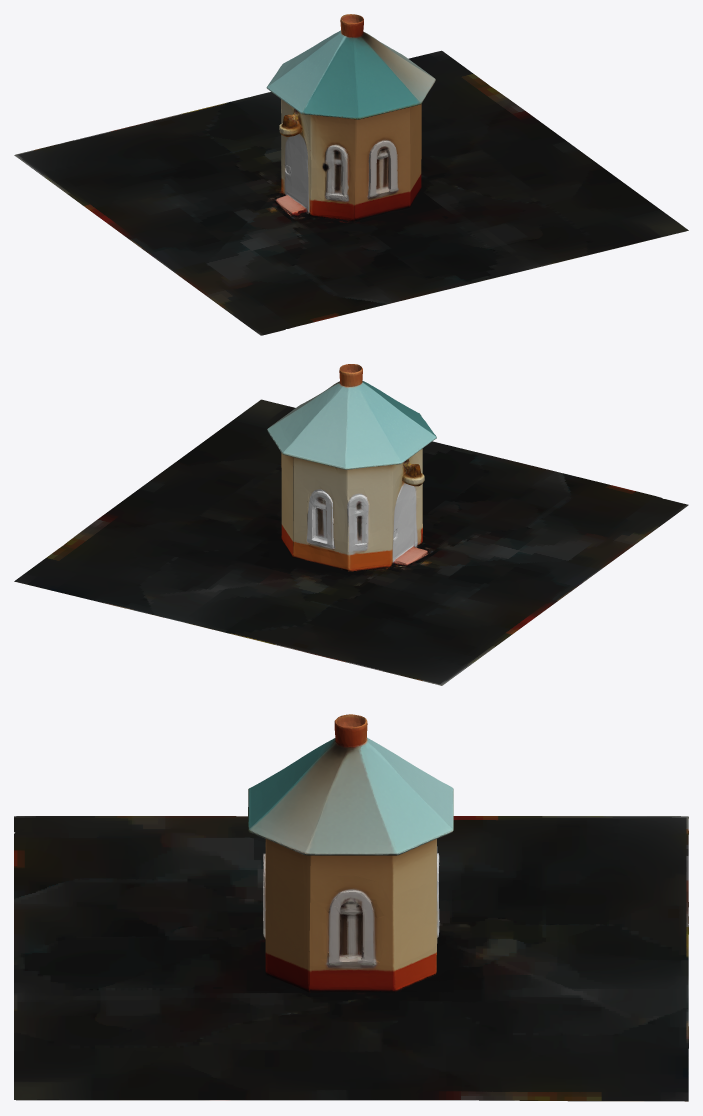
The model's file is escola.glb.
3 renders of one model, top to bottom at view 1: azimuth 30°, elevation 25°; view 2: azimuth 150°, elevation 25°; view 3: azimuth 270°, elevation 25°, orthographic. The views are drawn at different scales.
Visible parts, largest first — view 1: world; view 2: world; view 3: world.
Part boxes in pixels (box(x1,y1,x2,y2)): world: box(14, 14, 688, 335); world: box(14, 364, 688, 685); world: box(14, 714, 688, 1101).
Bounding box in the file's own units: 1 × 0.3921 × 1.
Materials: 1 (1 with a texture image).
